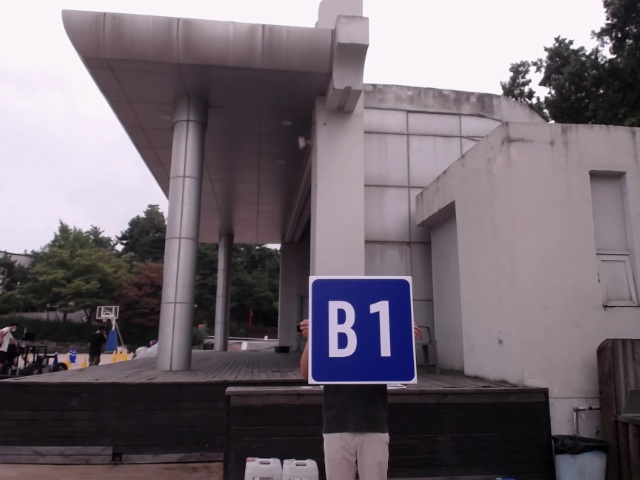delivery_b1: (309, 276, 416, 384)
